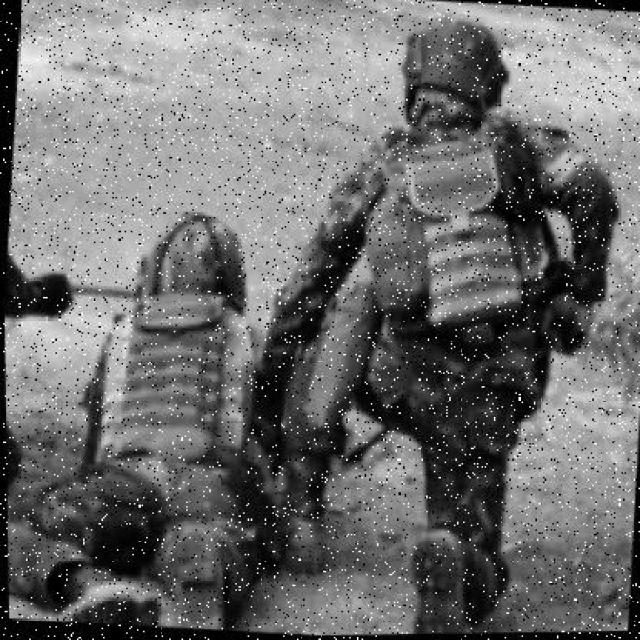MIL_Pax: (318, 28, 559, 609), (84, 190, 256, 632), (0, 0, 78, 501)
